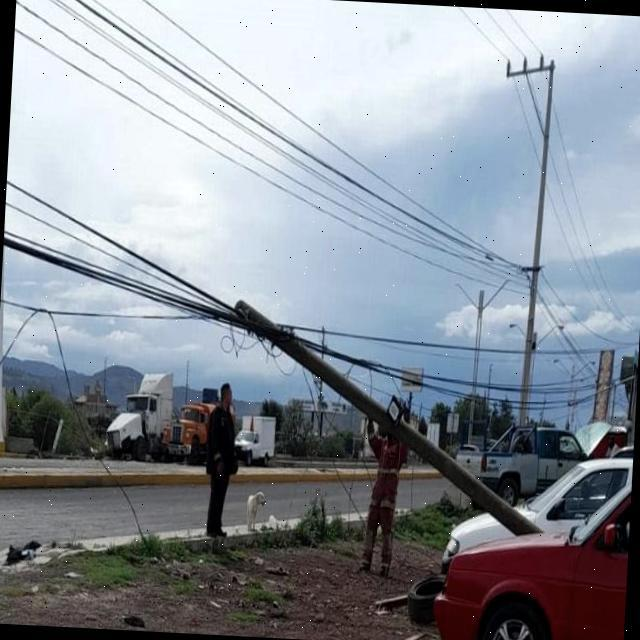Broken Pole: (231, 297, 542, 535)
